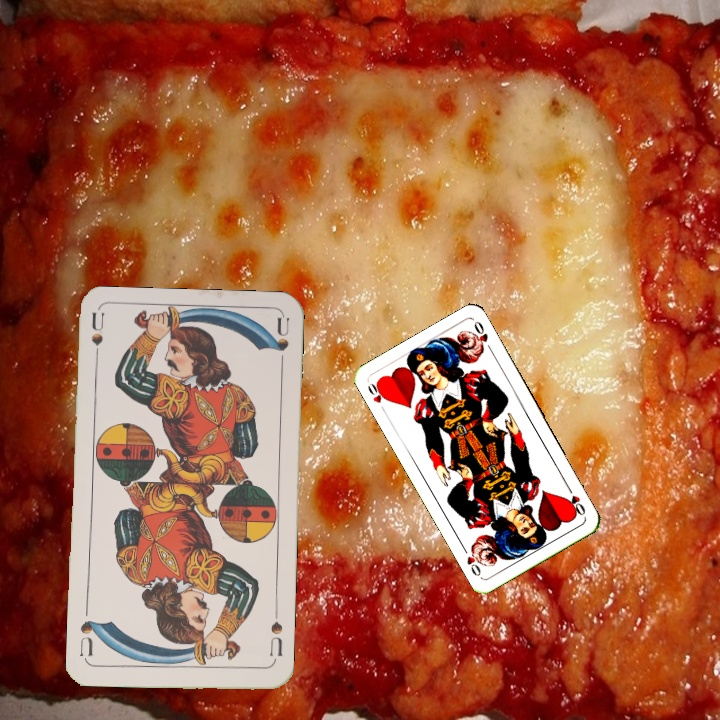HO: (363, 377, 391, 416), (563, 481, 588, 518)
SU: (87, 311, 107, 370), (266, 606, 285, 665)
